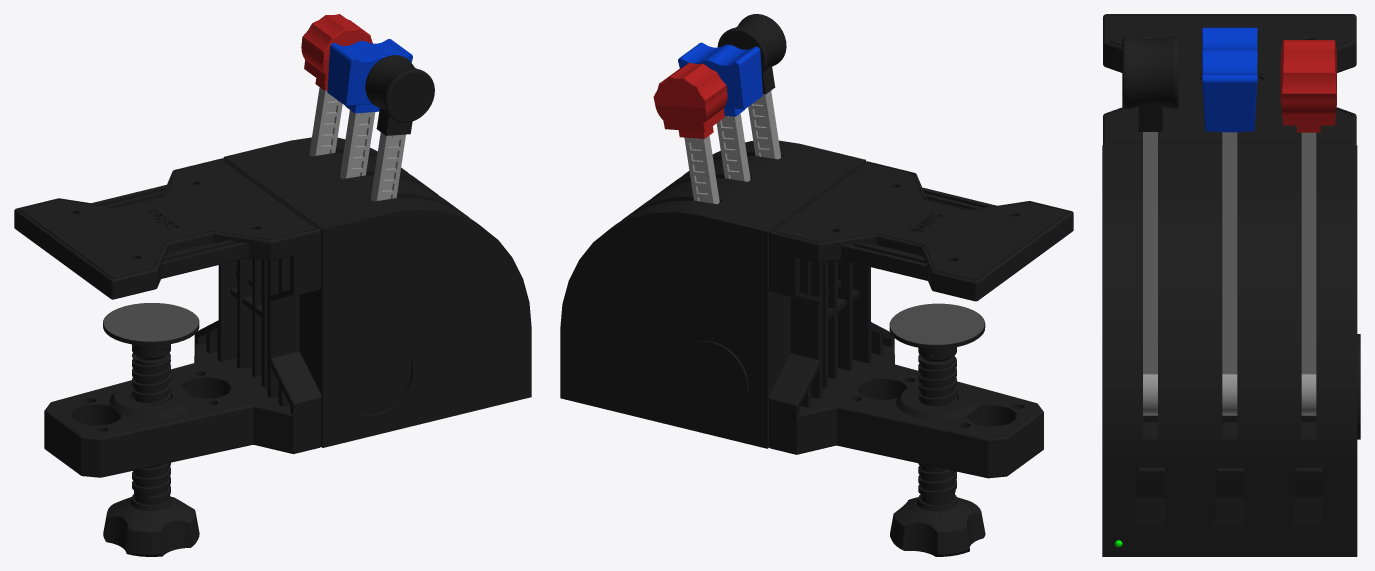
Rendered from Saitek potencias - Mono.dae.
3 renders of one model, left to right at view 1: azimuth 30°, elevation 25°; view 2: azimuth 150°, elevation 25°; view 3: azimuth 270°, elevation 25°, orthographic. The views are drawn at different scales.
Parts seen in each view (by area): view 1: _ncl1_5, SaitekFBXASC032potenciasFBXASC032-FBXASC032Base, _ncl1_30, _ncl1_21, _ncl1_15, _ncl1_34, _ncl1_18, _ncl1_10, _ncl1_13, _ncl1_14, _ncl1_32; view 2: _ncl1_5, SaitekFBXASC032potenciasFBXASC032-FBXASC032Base, _ncl1_30, _ncl1_18, _ncl1_15, _ncl1_34, _ncl1_21, _ncl1_14, _ncl1_13, _ncl1_10, _ncl1_32; view 3: SaitekFBXASC032potenciasFBXASC032-FBXASC032Base, _ncl1_5, _ncl1_15, _ncl1_23, _ncl1_18, _ncl1_21, _ncl1_13, _ncl1_14, _ncl1_10, _ncl1_28.
Part boxes in pixels (<box>): _ncl1_5: <box>14,158,321,477</box>; SaitekFBXASC032potenciasFBXASC032-FBXASC032Base: <box>223,137,531,447</box>; _ncl1_30: <box>103,348,199,556</box>; _ncl1_21: <box>365,55,434,135</box>; _ncl1_15: <box>327,39,412,113</box>; _ncl1_34: <box>103,303,198,341</box>; _ncl1_18: <box>301,14,372,90</box>; _ncl1_10: <box>370,132,405,201</box>; _ncl1_13: <box>340,110,375,178</box>; _ncl1_14: <box>309,87,342,156</box>; _ncl1_32: <box>103,312,199,357</box>; _ncl1_5: <box>769,161,1073,478</box>; SaitekFBXASC032potenciasFBXASC032-FBXASC032Base: <box>560,140,865,448</box>; _ncl1_30: <box>890,352,985,556</box>; _ncl1_18: <box>653,62,727,138</box>; _ncl1_15: <box>678,42,762,116</box>; _ncl1_34: <box>890,303,984,344</box>; _ncl1_21: <box>717,14,786,94</box>; _ncl1_14: <box>684,135,719,204</box>; _ncl1_13: <box>716,113,750,181</box>; _ncl1_10: <box>748,91,781,159</box>; _ncl1_32: <box>889,313,985,359</box>; SaitekFBXASC032potenciasFBXASC032-FBXASC032Base: <box>1102,145,1360,556</box>; _ncl1_5: <box>1103,14,1356,145</box>; _ncl1_15: <box>1202,27,1257,132</box>; _ncl1_23: <box>1136,467,1322,526</box>; _ncl1_18: <box>1280,40,1336,132</box>; _ncl1_21: <box>1122,36,1178,131</box>; _ncl1_13: <box>1222,132,1237,415</box>; _ncl1_14: <box>1301,132,1316,415</box>; _ncl1_10: <box>1143,132,1157,415</box>; _ncl1_28: <box>1143,422,1316,436</box>.
Size of the model in its own units: 0.2227 by 0.2233 by 0.0917.
